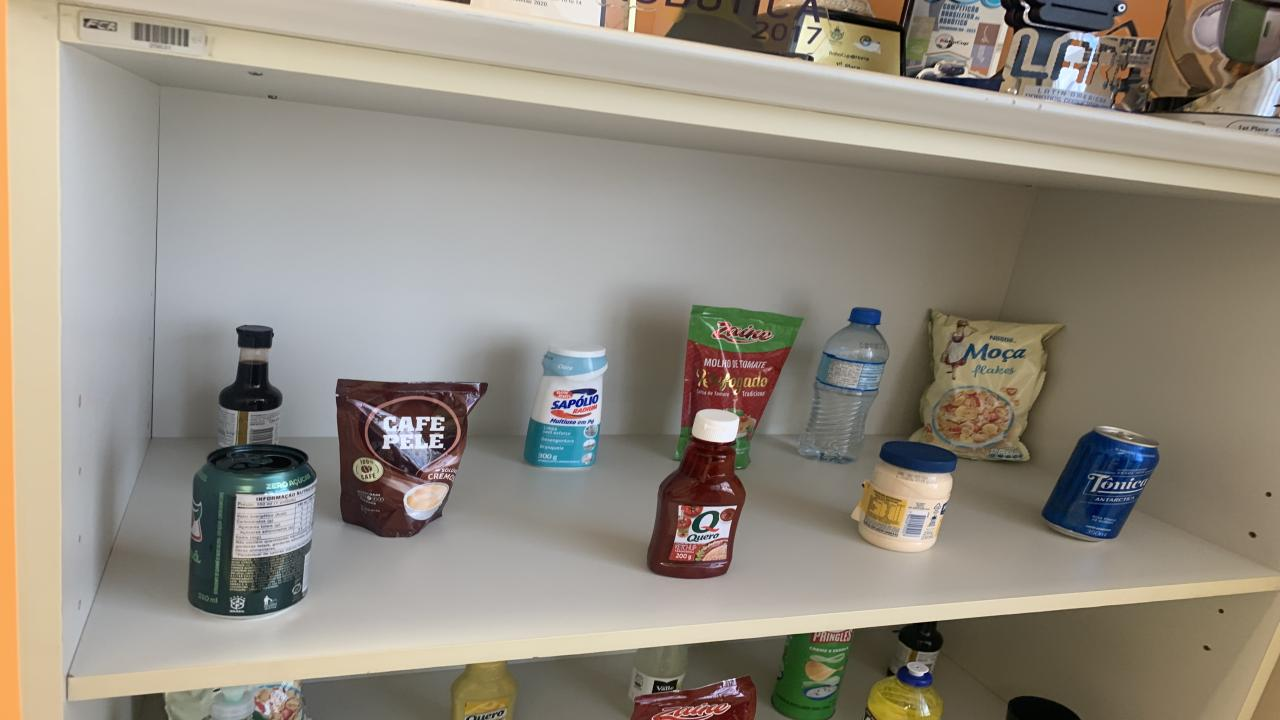Cleaner-Cleanup_Items: (525, 343, 608, 469)
Coffee-Pantry_Items: (335, 379, 488, 536)
Detergent-Cleanup_Items: (865, 662, 942, 720), (865, 662, 942, 720), (210, 686, 255, 720)
English_Sauce-Pantry_Items: (218, 324, 282, 446), (890, 622, 942, 673), (898, 622, 942, 652)
Flakes-Snacks: (912, 311, 1062, 461), (248, 681, 308, 720), (162, 688, 220, 720)
Guarana_Can-Drinks: (188, 444, 318, 619)
Ketchup-Pantry_Items: (648, 409, 745, 578)
Mayonnaise-Pantry_Items: (852, 441, 958, 551)
Mustard-Pantry_Items: (450, 662, 518, 720)
Pringles-Snacks: (770, 630, 852, 720)
Soda-Drinks: (628, 645, 688, 699)
Tomato_Sauce-Pantry_Items: (675, 306, 802, 469), (630, 675, 758, 720)
Tonic-Drinks: (1042, 426, 1160, 542)
Water_Bottle-Drinks: (798, 308, 890, 463)
